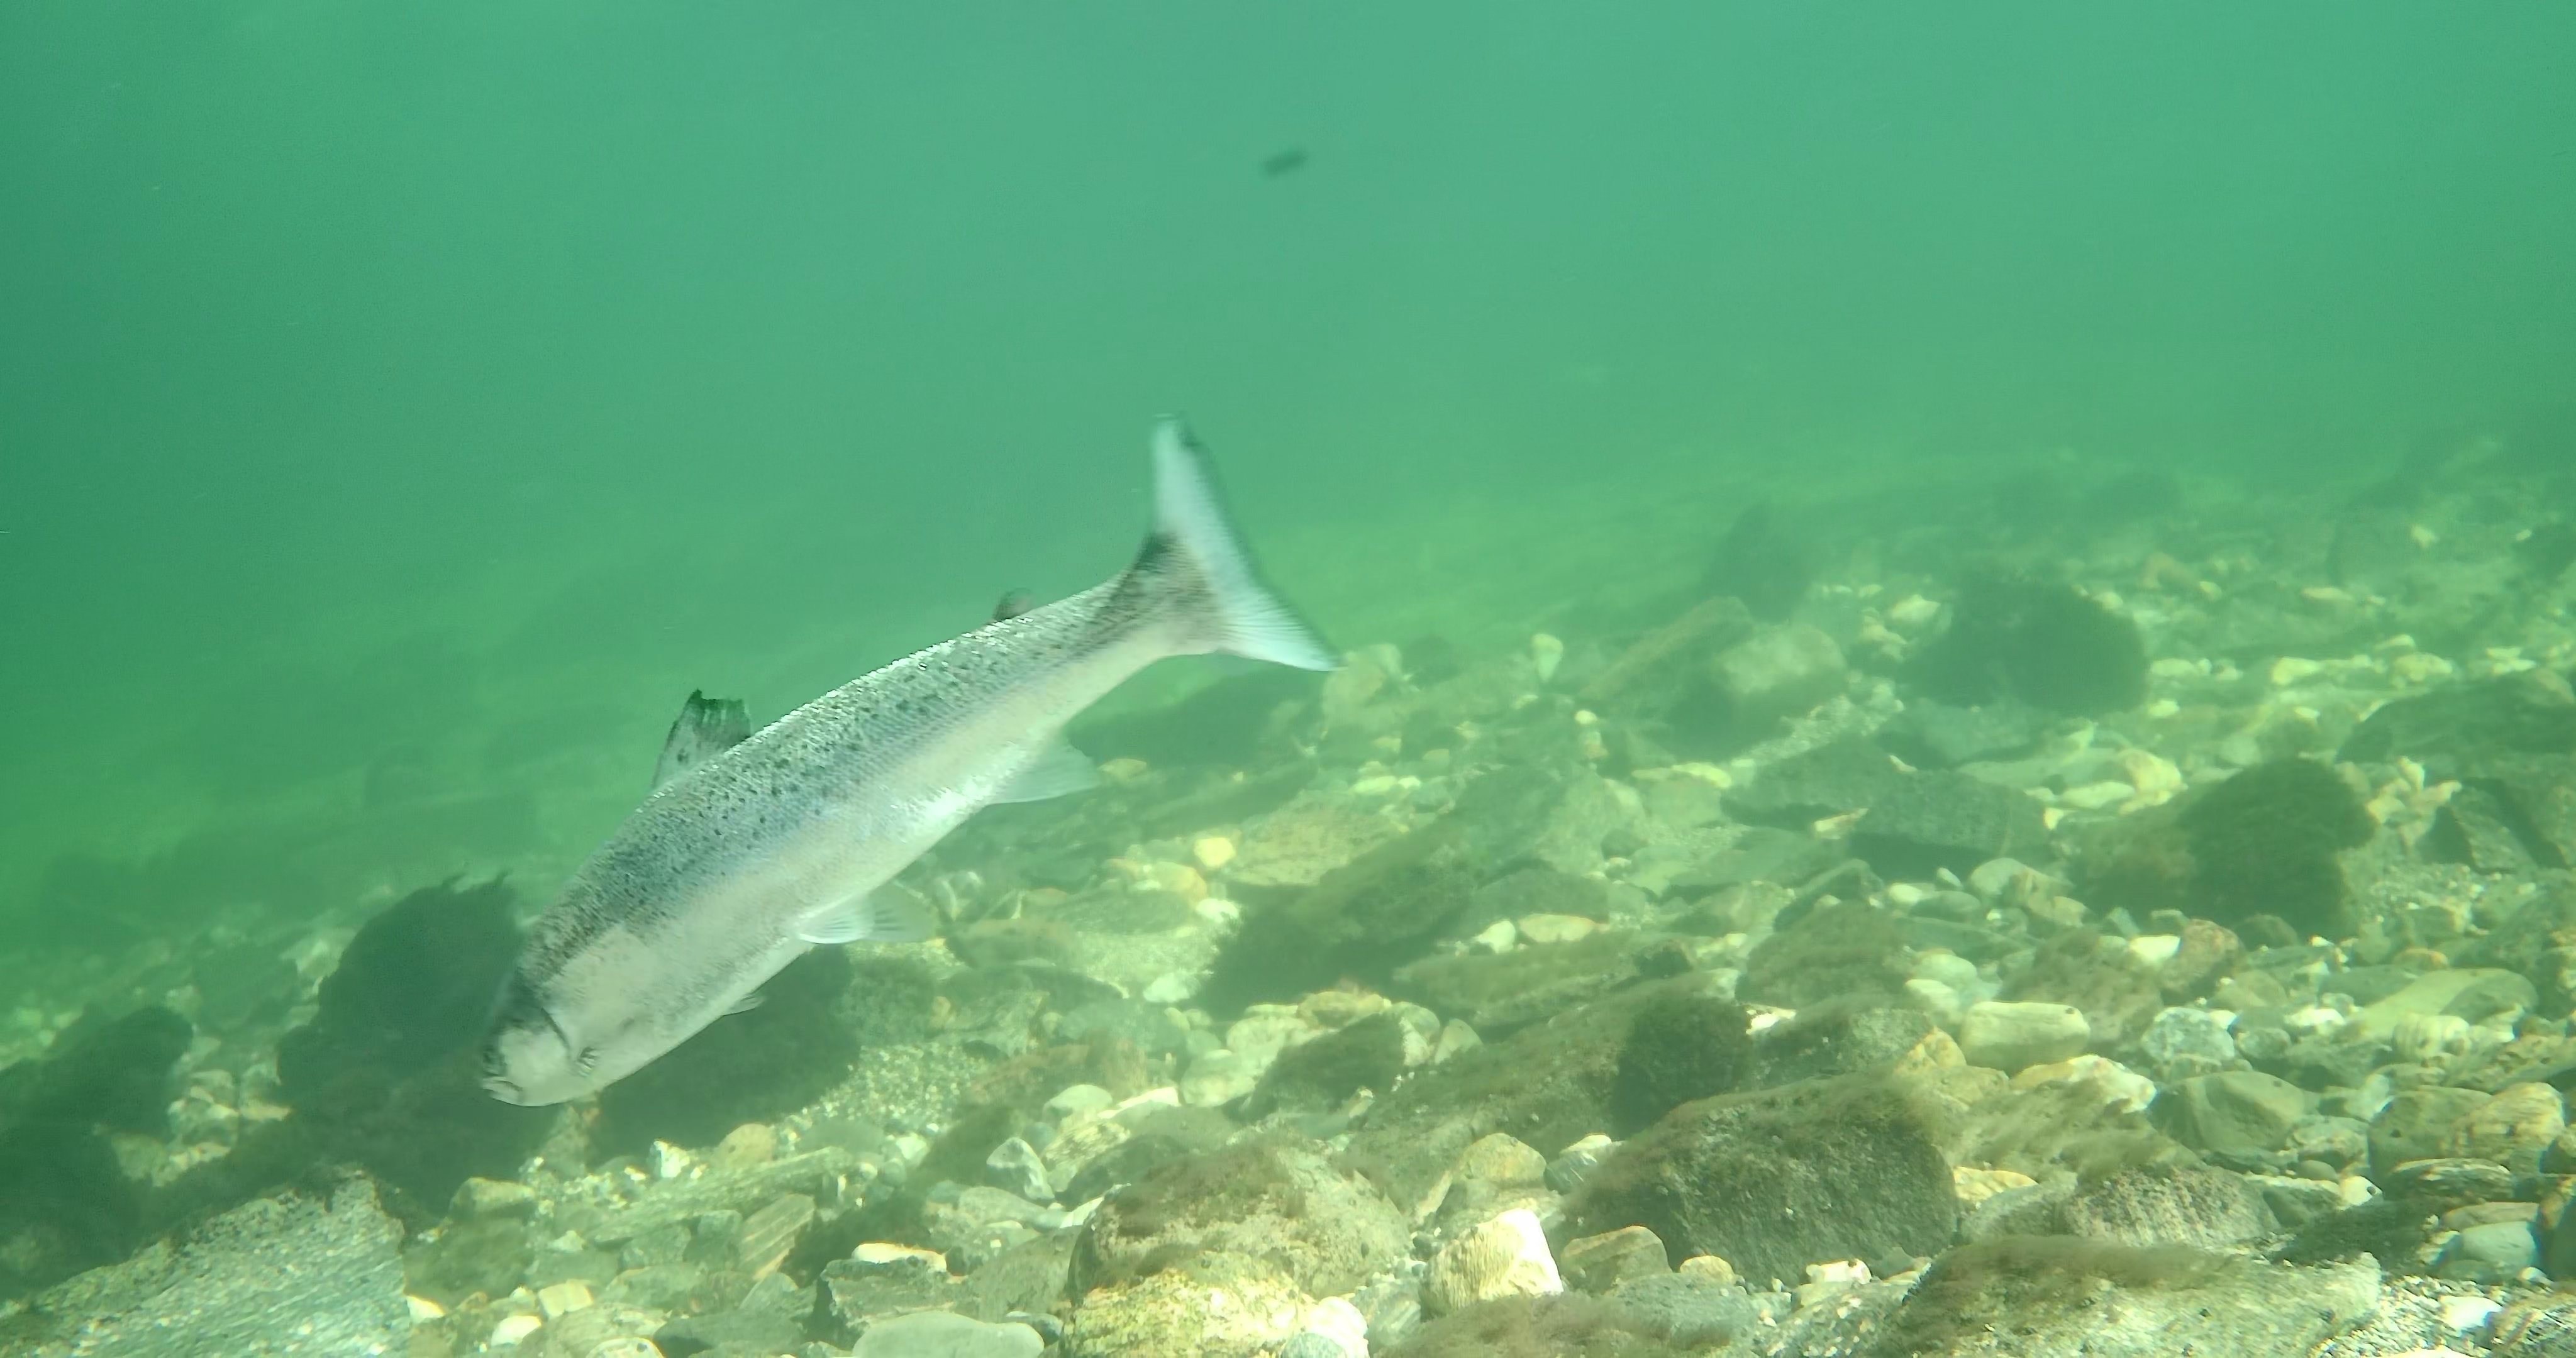salmon: (470, 409, 1351, 1109)
